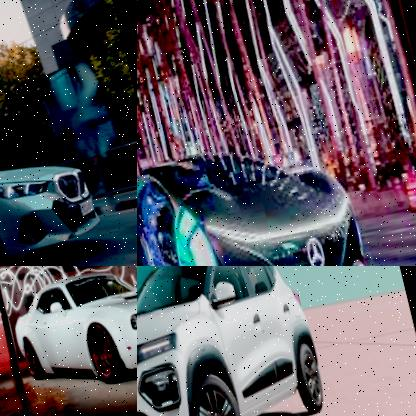car: (137, 106, 378, 266), (137, 266, 341, 416), (0, 266, 137, 394), (0, 108, 107, 266)
